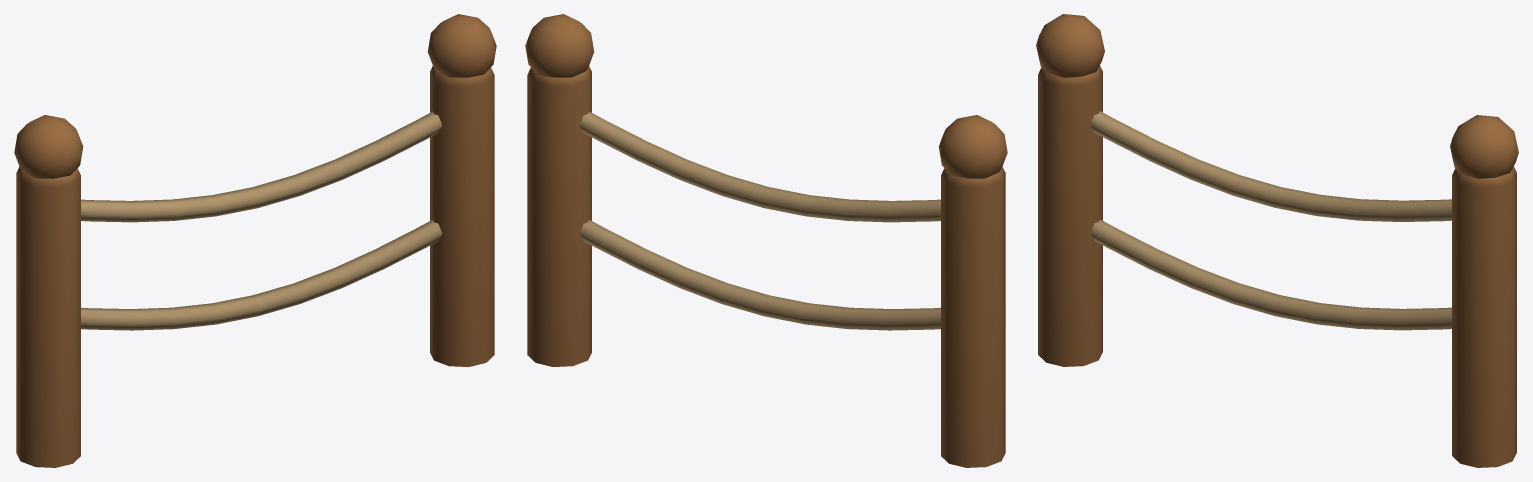
The model's file is furn_od_fence_rope.glb.
3 views of the same model, side by side, from view 1: azimuth 30°, elevation 25°; view 2: azimuth 150°, elevation 25°; view 3: azimuth 330°, elevation 25° (orthographic).
Parts seen in each view (by area): view 1: furn_od_fence_rope_main; view 2: furn_od_fence_rope_main; view 3: furn_od_fence_rope_main.
Part boxes in pixels (box(x1,y1,x2,y2)): furn_od_fence_rope_main: box(14, 14, 496, 467); furn_od_fence_rope_main: box(525, 14, 1007, 467); furn_od_fence_rope_main: box(1036, 14, 1518, 467).
Bounding box in the file's own units: 1 × 0.685 × 0.13.
